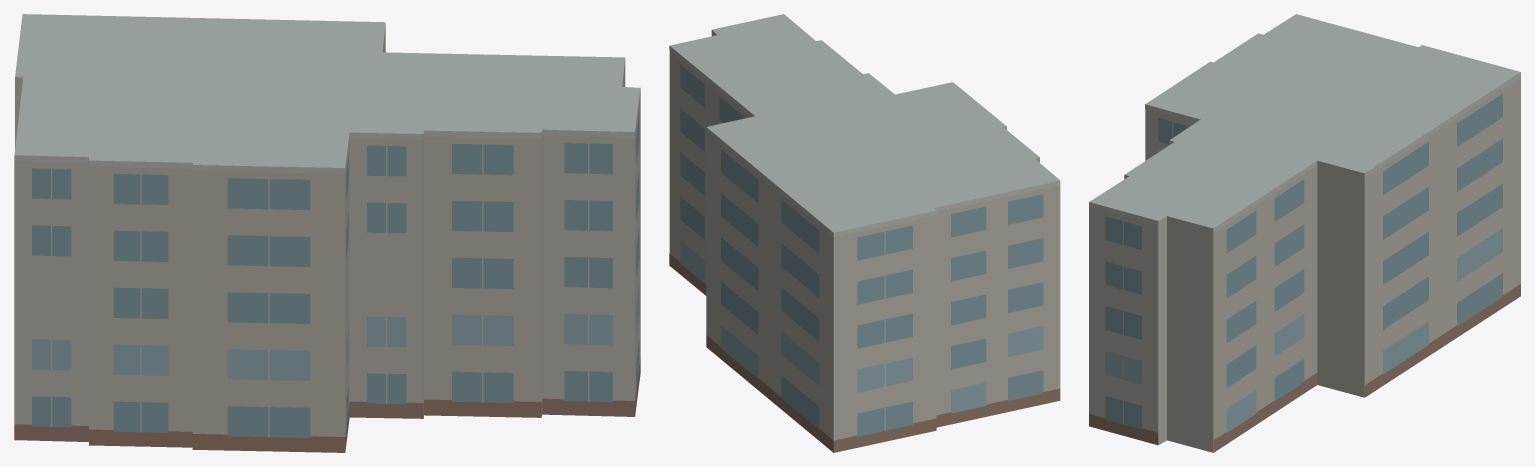
File: survey-upis-32674467.glb
The picture shows the model from 3 angles, left to right: view 1: azimuth 30°, elevation 25°; view 2: azimuth 150°, elevation 25°; view 3: azimuth 270°, elevation 25°; orthographic projection. The views are drawn at different scales.
Visible parts, largest first — view 1: survey-upis-32674467.tmp; view 2: survey-upis-32674467.tmp; view 3: survey-upis-32674467.tmp.
Boxes of the visible parts, bbox=[...] form: survey-upis-32674467.tmp: bbox=[14, 14, 640, 452]; survey-upis-32674467.tmp: bbox=[669, 14, 1060, 452]; survey-upis-32674467.tmp: bbox=[1089, 14, 1520, 452].
Bounding box in the file's own units: 24.11 × 11.75 × 20.51.
